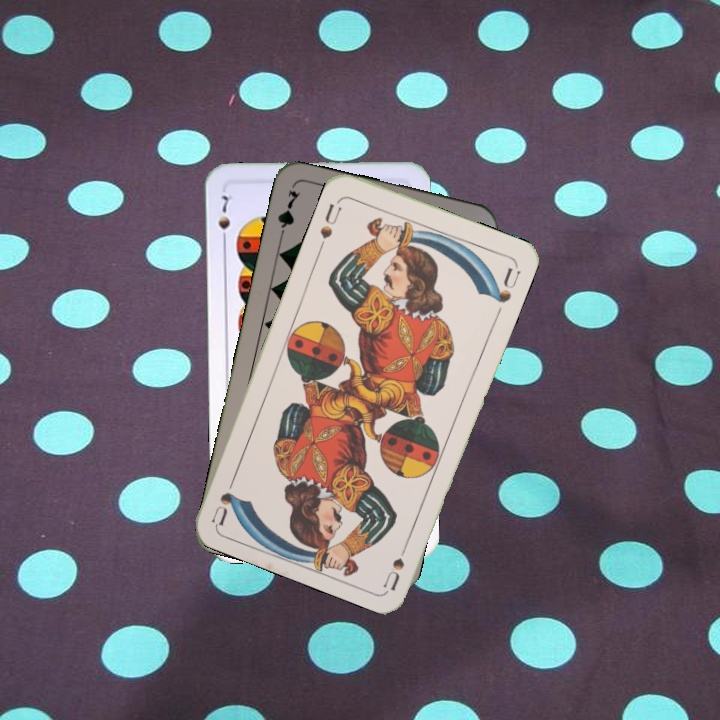G7: (273, 186, 303, 244)
S7: (214, 192, 233, 247)
SU: (380, 533, 413, 591), (315, 195, 344, 252)
